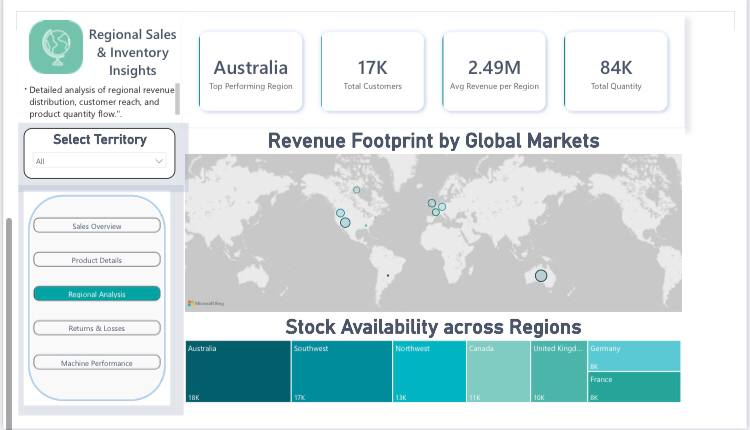

This screenshot's page, from the dashboard's own definition file:
{"tool":"powerbi","page":{"name":"Regional Analysis","canvas":[1280,720],"ordinal":2},"visuals":[{"type":"cardVisual","fields":{"Data":["Min(Dim_Territories.Region)","_Measures.Total Customers","_Measures.Avg Revenue per Region","_Measures.Total Quantity"]},"box":[296.2,7.1,894.3,199.8],"z":0},{"type":"textbox","box":[0,123.3,296.2,76.5],"z":1000},{"type":"textbox","box":[119.1,0,177.2,146],"z":2000},{"type":"map","title":"Revenue Footprint by Global Markets","fields":{"Category":["Dim_Territories.Region"],"Size":["_Measures.Total Revenue"]},"box":[296.2,208.3,895.7,331.7],"z":3000},{"type":"treemap","title":"Stock Availability across Regions","fields":{"Group":["Dim_Territories.Region"],"Values":["_Measures.Total Quantity"]},"box":[296.2,540,894.3,161.6],"z":4000},{"type":"group","id":"g1","title":"Group 1","box":[12.8,318.9,260.8,382.7],"z":5000},{"type":"slicer","title":"Select Territory","fields":{"Values":["Dim_Territories.Country"]},"box":[12.8,208.3,270.7,89.3],"z":6000},{"type":"image","box":[22.9,7.1,95.7,112.9],"z":6001},{"type":"shape","title":"Navigation","box":[12.8,318.9,260.8,382.7],"z":7000,"group":"g1"},{"type":"pageNavigator","box":[22.7,360,240.9,286.3],"z":8000,"group":"g1"}]}

Visuals, with their boxes in screenshot pixels (x1, y1, x2, y2), scaled from the page's 1280x720 canvas onto the 750x430 screenshot:
cardVisual - Min(Dim_Territories.Region) x _Measures.Total Customers: 174, 4, 698, 124
textbox: 0, 74, 174, 119
textbox: 70, 0, 174, 87
"Revenue Footprint by Global Markets" map: 174, 124, 698, 322
"Stock Availability across Regions" treemap: 174, 322, 698, 419
"Group 1" group: 8, 190, 160, 419
"Select Territory" slicer: 8, 124, 166, 178
image: 13, 4, 69, 72
"Navigation" shape: 8, 190, 160, 419
pageNavigator: 13, 215, 154, 386
